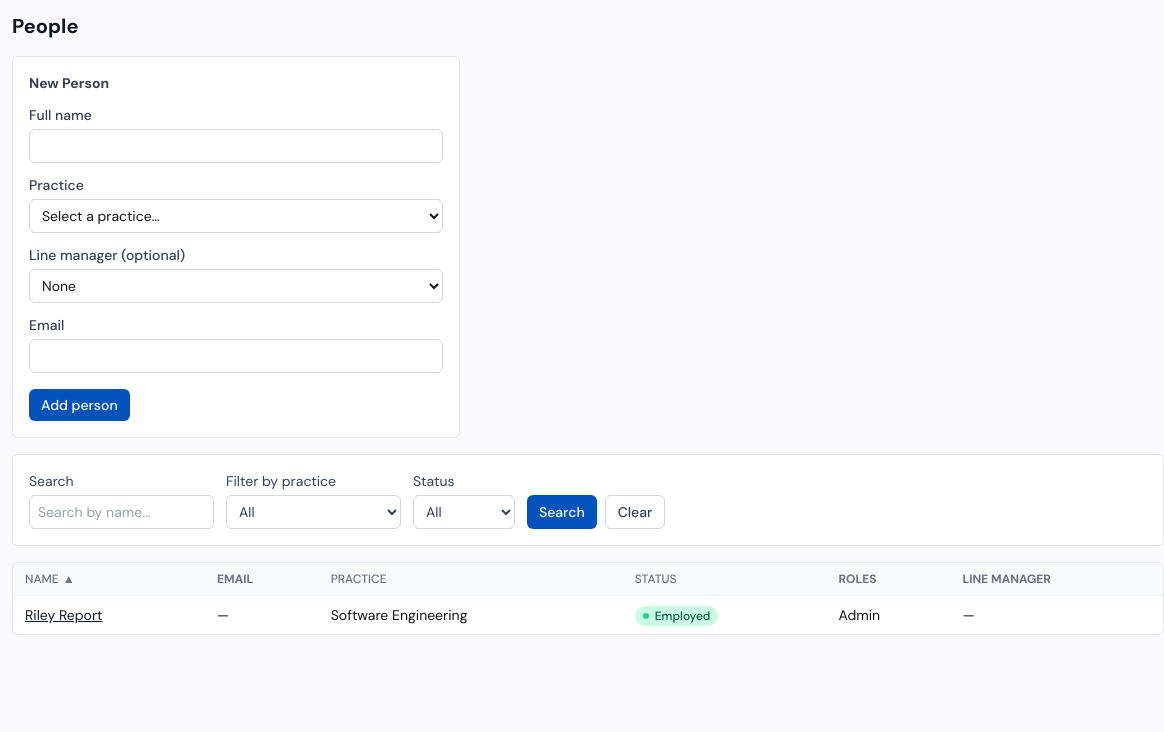
Test: PeoplePage › requires a valid email before submitting
Expected: the link "Riley Report" is shown, [25,606,103,624]
In the field labelled "Full name": point(236, 146) [29,129,443,163], type "Sam Starter"
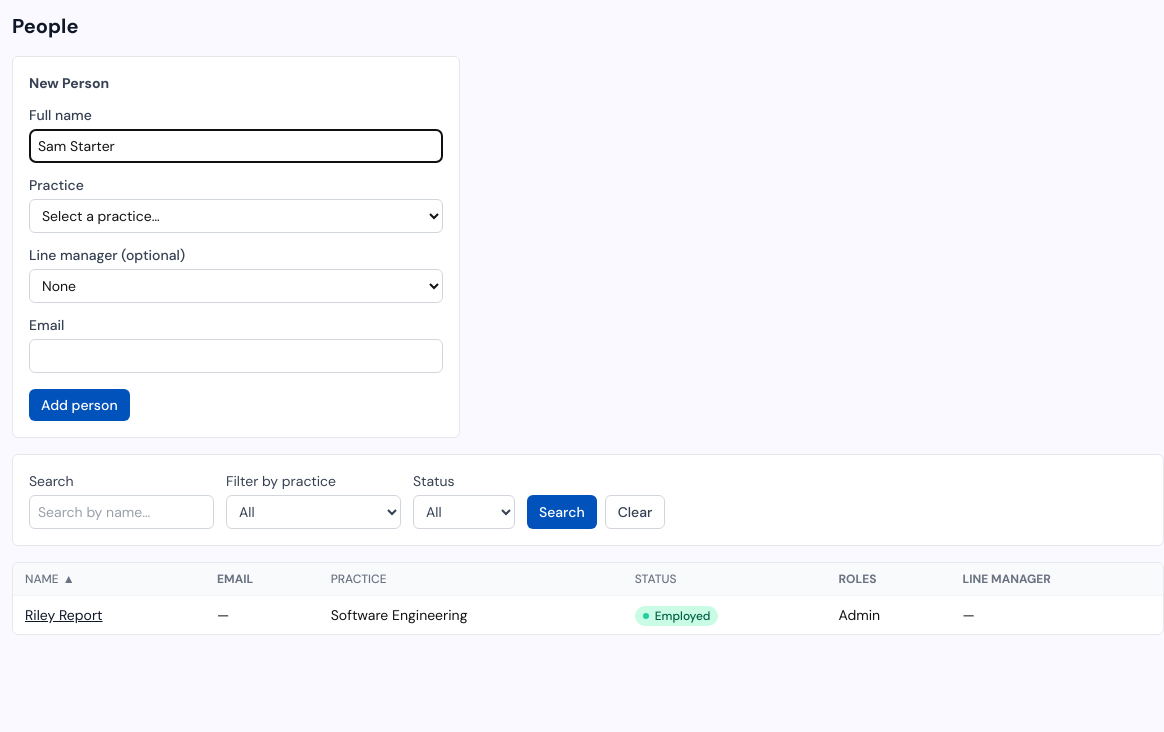
Select "Software Engineering" in the dropdown labelled "Practice": point(236, 216) [29,199,443,233]
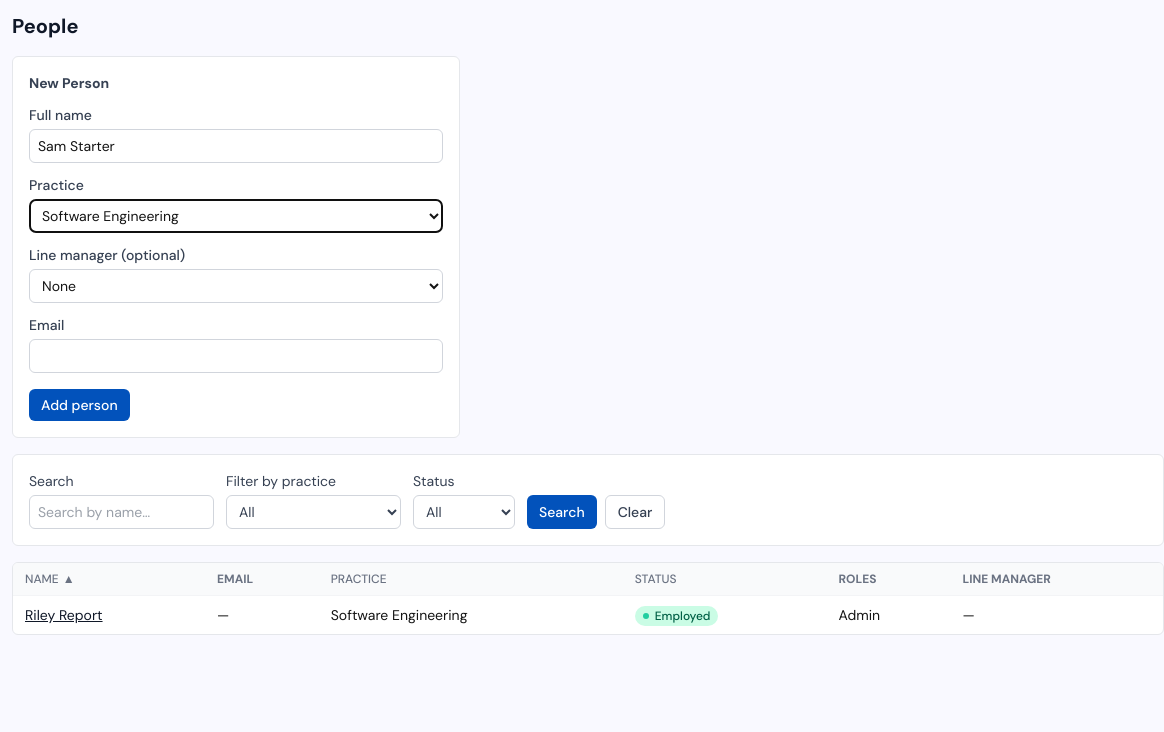
Click the button "Add person": point(79, 405) [29,389,130,421]
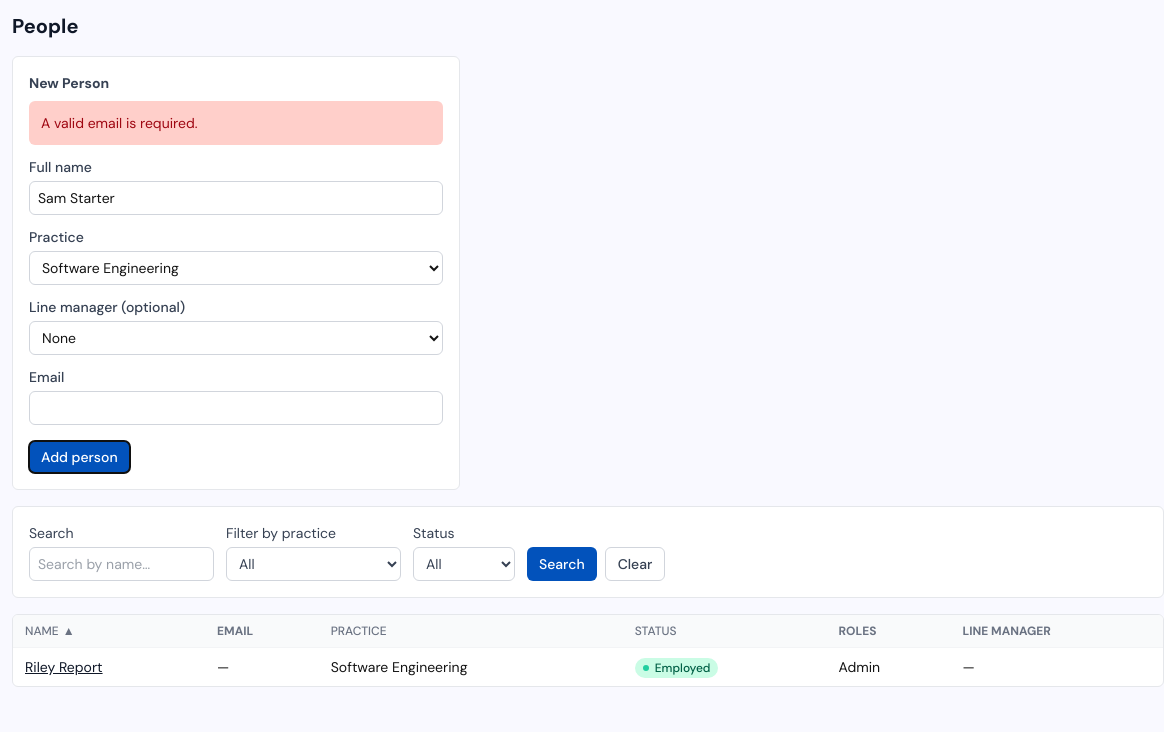
Now the message shows "valid email is required", box [41,114,198,132]
